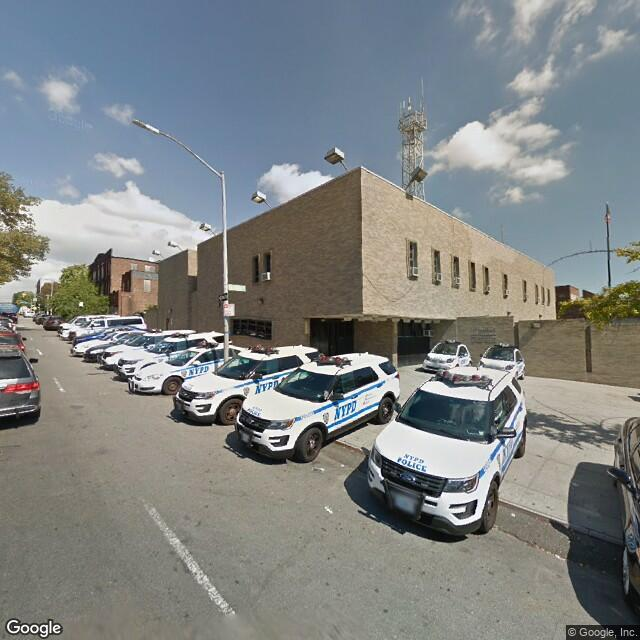litter: (340, 463, 345, 467), (512, 515, 515, 517)
